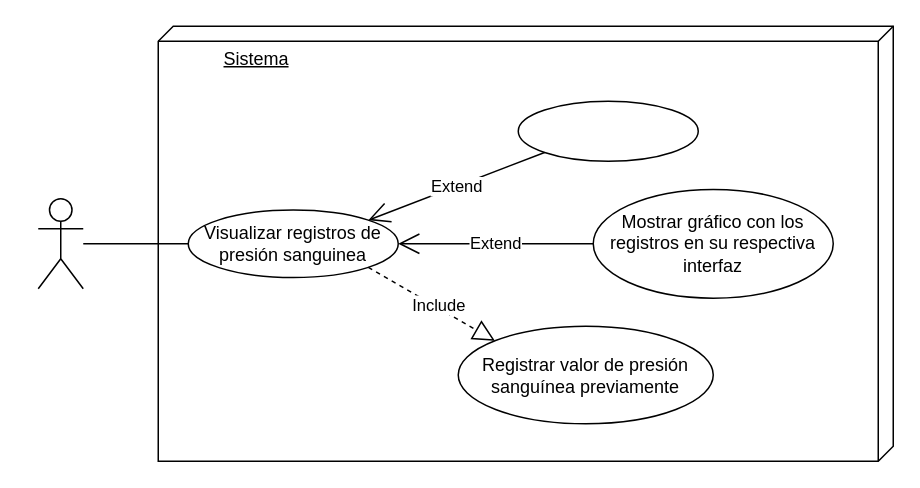
This 920x488 diagram has some shape labels left out. Each missing label, with the centre of its shape:
"Mostrar registro" belongs at point 607,130.
"Paciente" belongs at point 60,243.
